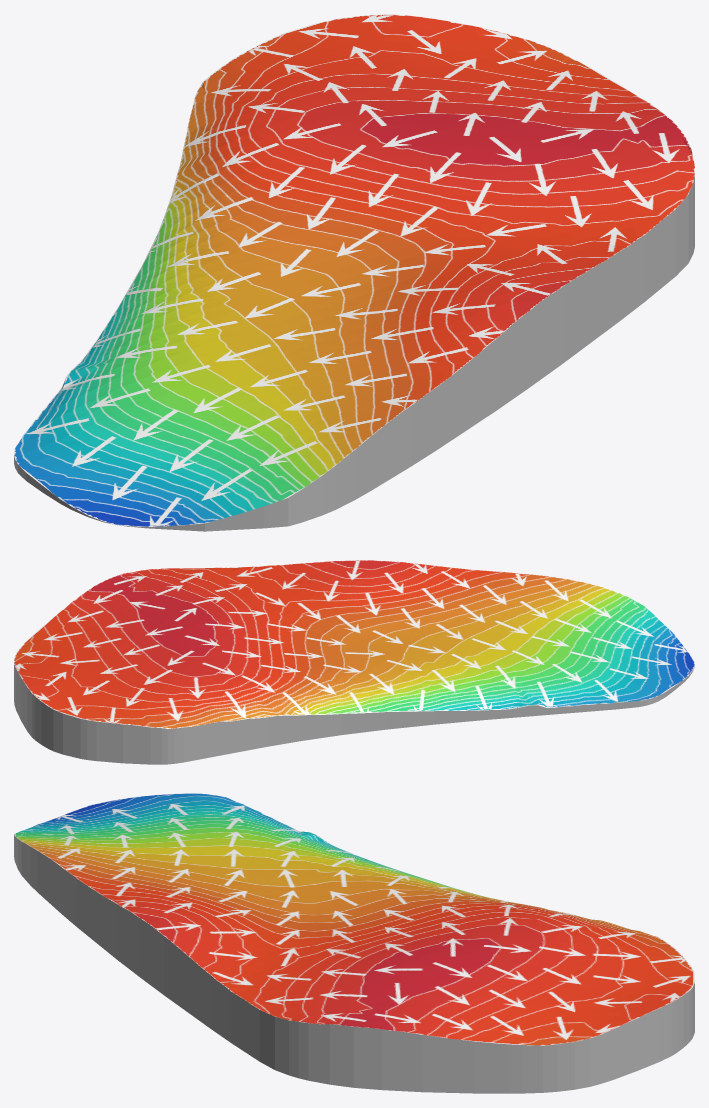
The picture shows the model from 3 angles, top to bottom: view 1: azimuth 30°, elevation 25°; view 2: azimuth 150°, elevation 25°; view 3: azimuth 270°, elevation 25°; orthographic projection. The views are drawn at different scales.
Size of the model in its own units: 6.34 by 0.6283 by 6.2.
2 materials, 1 textured.
